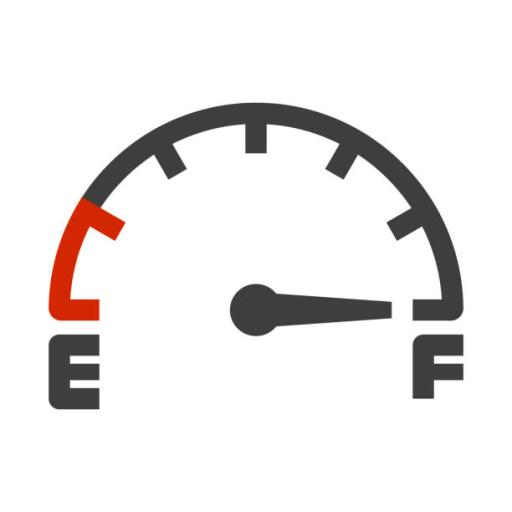empty: (45, 331, 105, 416)
full: (409, 326, 467, 404)
guage_area: (42, 100, 473, 427)
needle_center: (230, 279, 284, 343)
needle_tip: (355, 292, 396, 331)
